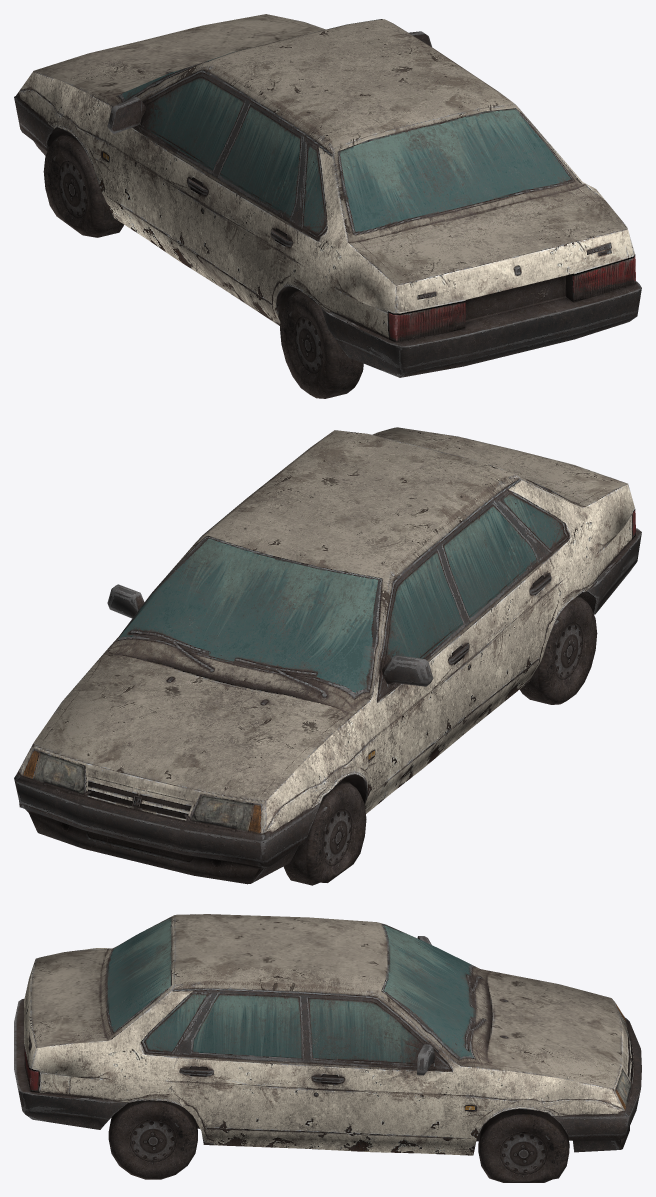
File: 1991_vaz_21099.glb
3 renders of one model, top to bottom at view 1: azimuth 30°, elevation 25°; view 2: azimuth 150°, elevation 25°; view 3: azimuth 270°, elevation 25°, orthographic. The views are drawn at different scales.
Parts seen in each view (by area): view 1: Box001; view 2: Box001; view 3: Box001.
Part boxes in pixels (x1=…): Box001: x1=14, y1=14, x2=641, y2=398; Box001: x1=14, y1=427, x2=641, y2=885; Box001: x1=14, y1=914, x2=641, y2=1182.
Bounding box in the file's own units: 202 × 141 × 429.
Materials: 1 (1 with a texture image).
